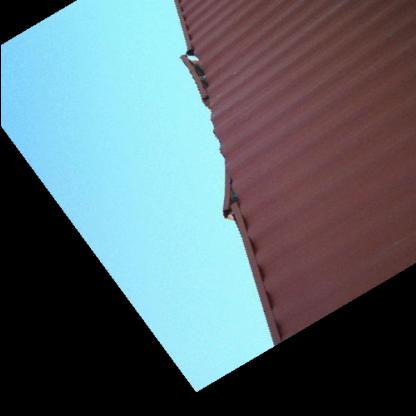Damage: (162, 45, 240, 119), (206, 146, 242, 232)
